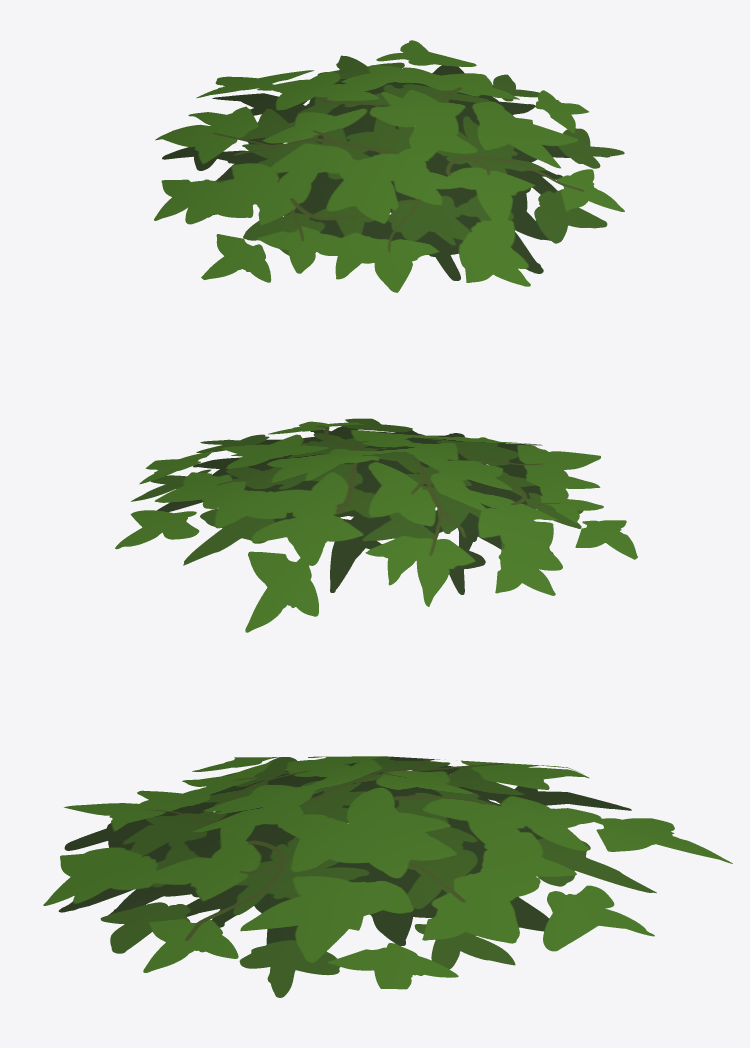
Rendered from SM_Vine01.FBX.
The picture shows the model from 3 angles, top to bottom: view 1: azimuth 30°, elevation 25°; view 2: azimuth 150°, elevation 25°; view 3: azimuth 270°, elevation 25°; orthographic projection. The views are drawn at different scales.
Parts seen in each view (by area): view 1: Plane002; view 2: Plane002; view 3: Plane002.
Part boxes in pixels (bbox=[...]): Plane002: bbox=[154, 40, 624, 292]; Plane002: bbox=[115, 418, 637, 632]; Plane002: bbox=[43, 756, 732, 997].
Bounding box in the file's own units: 67.25 × 16.66 × 77.37.
Materials: 1 (1 with a texture image).
